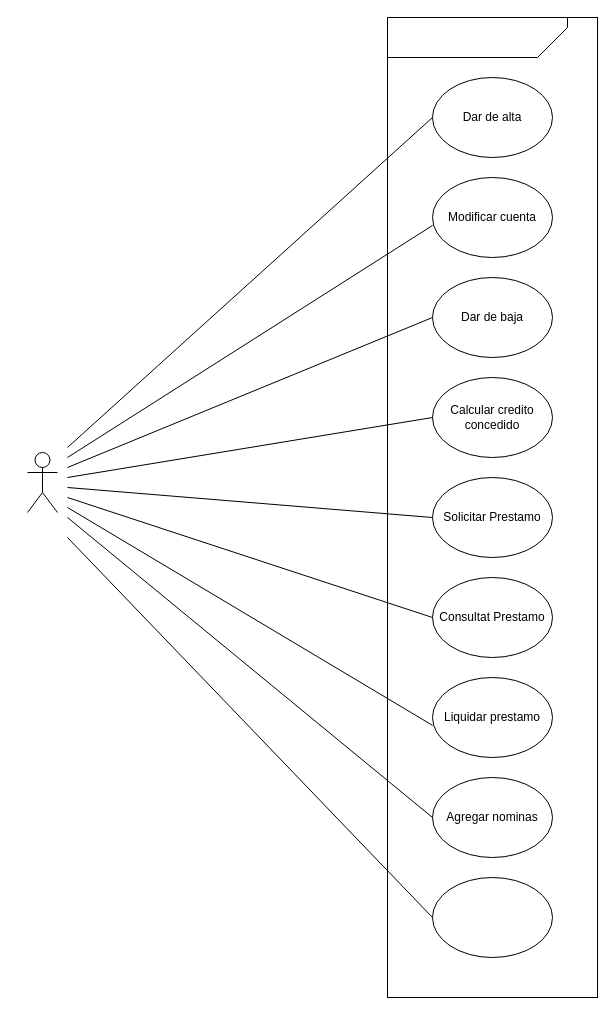
Some shapes in this 615 by 1015 pixel diagram are drawn without their labels. The shapes that lost their labels are listed below. From the top down, each one's centre as x and y in pixels, then its label:
pixel 477 37: Calculadora de prestamos
pixel 42 482: Usuario/a
pixel 492 917: Modificar prestamo
